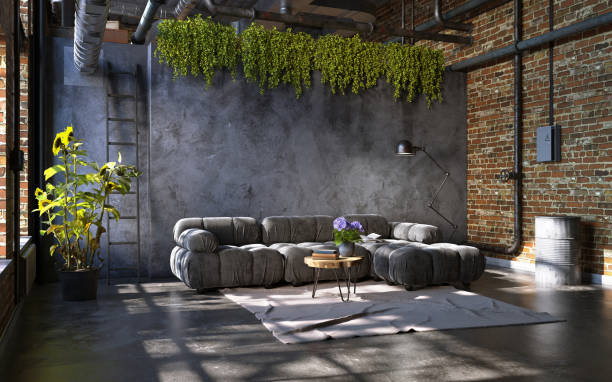floor lamp: (394, 140, 462, 242)
flower vase: (330, 216, 370, 258)
large plant: (32, 123, 138, 303)
sofa: (168, 211, 487, 295)
table: (303, 251, 363, 302)
